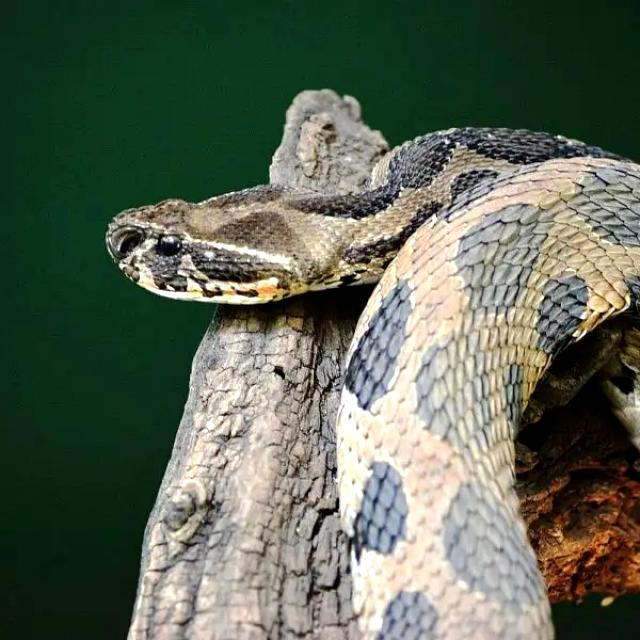Daboia siamensis: (107, 128, 639, 639)
snake: (107, 128, 639, 639)
